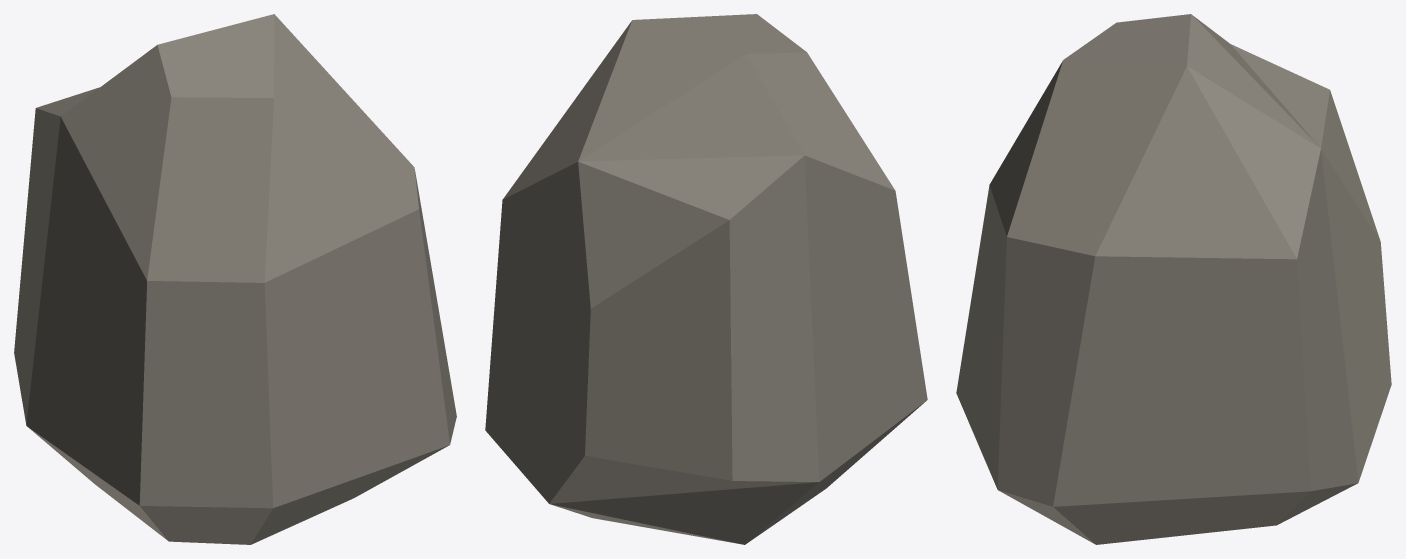
File: TB_D_Env_RockB_A.FBX
3 views of the same model, side by side, from view 1: azimuth 30°, elevation 25°; view 2: azimuth 150°, elevation 25°; view 3: azimuth 270°, elevation 25° (orthographic).
Parts seen in each view (by area): view 1: TB_D_Env_RockB_A; view 2: TB_D_Env_RockB_A; view 3: TB_D_Env_RockB_A.
Boxes of the visible parts, left/top/right/bottom form: TB_D_Env_RockB_A: left=14, top=14, right=456, bottom=544; TB_D_Env_RockB_A: left=485, top=14, right=927, bottom=544; TB_D_Env_RockB_A: left=956, top=14, right=1391, bottom=544.
Size of the model in its own units: 1.32 by 1.74 by 1.49.
